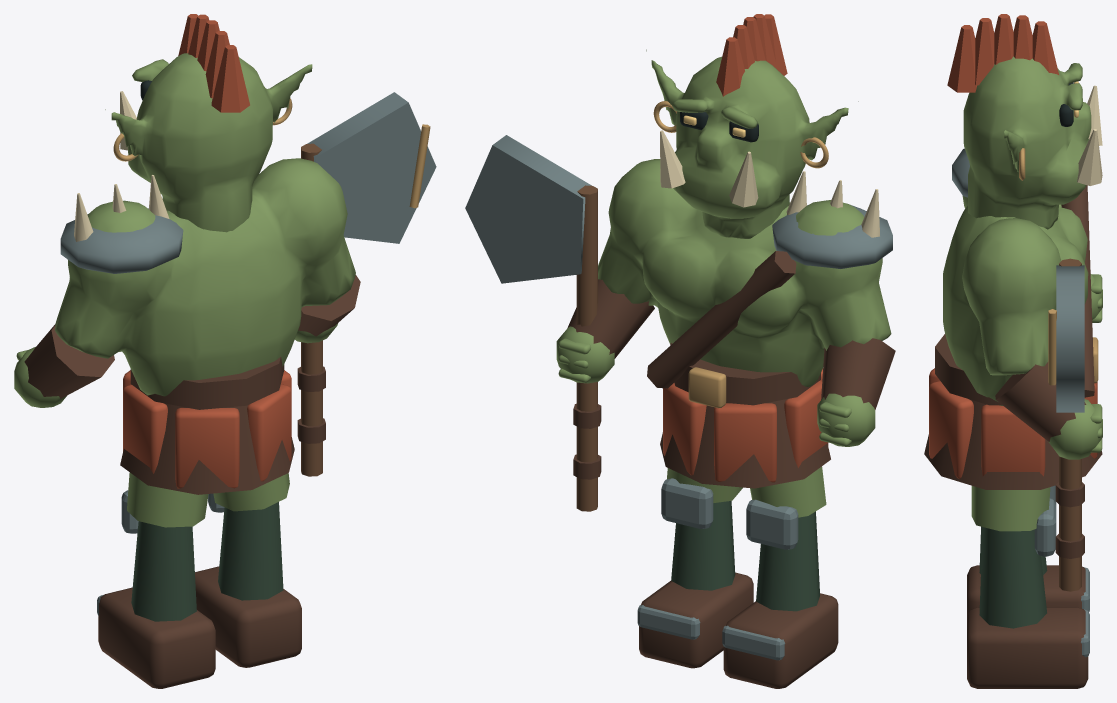
Rendered from host_03.glb.
The picture shows the model from 3 angles, left to right: view 1: azimuth 30°, elevation 25°; view 2: azimuth 150°, elevation 25°; view 3: azimuth 270°, elevation 25°; orthographic projection. The views are drawn at different scales.
Parts seen in each view (by area): view 1: mesh_Skin.003, mesh_Iron.003, mesh_Leather.003, mesh_Cloth.002, mesh_Leather.002, mesh_Leather.001, mesh_Shadow.002, mesh_Shadow.001, mesh_Skin.002, mesh_Wood.002, mesh_Bone.002, mesh_Skin.001 (+1 smaller); view 2: mesh_Skin.003, mesh_Leather.003, mesh_Iron.003, mesh_Cloth.002, mesh_Leather.002, mesh_Leather.001, mesh_Wood.002, mesh_Shadow.002, mesh_Shadow.001, mesh_Iron.002, mesh_Iron.001, mesh_Bone.002 (+4 smaller); view 3: mesh_Skin.003, mesh_Cloth.002, mesh_Leather.003, mesh_Leather.001, mesh_Shadow.001, mesh_Iron.003, mesh_Skin.001, mesh_Wood.002, mesh_Leather.002, mesh_Bone.002, mesh_Iron.001, mesh_Copper.002 (+2 smaller).
Part boxes in pixels (left/top/right/bottom): mesh_Skin.003: left=14, top=53, right=355, bottom=407; mesh_Iron.003: left=60, top=92, right=436, bottom=273; mesh_Leather.003: left=24, top=275, right=360, bottom=494; mesh_Cloth.002: left=123, top=14, right=291, bottom=488; mesh_Leather.002: left=98, top=587, right=215, bottom=688; mesh_Leather.001: left=195, top=566, right=301, bottom=667; mesh_Shadow.002: left=131, top=521, right=196, bottom=621; mesh_Shadow.001: left=218, top=502, right=283, bottom=600; mesh_Skin.002: left=127, top=472, right=208, bottom=527; mesh_Wood.002: left=301, top=143, right=322, bottom=476; mesh_Bone.002: left=74, top=91, right=169, bottom=241; mesh_Skin.001: left=213, top=473, right=289, bottom=511; mesh_Skin.003: left=556, top=49, right=891, bottom=446; mesh_Leather.003: left=567, top=251, right=895, bottom=488; mesh_Iron.003: left=465, top=135, right=892, bottom=283; mesh_Cloth.002: left=663, top=14, right=828, bottom=482; mesh_Leather.002: left=723, top=593, right=838, bottom=688; mesh_Leather.001: left=639, top=572, right=753, bottom=668; mesh_Wood.002: left=576, top=185, right=597, bottom=511; mesh_Shadow.002: left=756, top=511, right=819, bottom=611; mesh_Shadow.001: left=671, top=501, right=735, bottom=590; mesh_Iron.002: left=722, top=499, right=798, bottom=660; mesh_Iron.001: left=637, top=478, right=713, bottom=639; mesh_Bone.002: left=660, top=130, right=879, bottom=237; mesh_Skin.003: left=943, top=56, right=1102, bottom=459; mesh_Cloth.002: left=929, top=14, right=1097, bottom=479; mesh_Leather.003: left=924, top=185, right=1102, bottom=558; mesh_Leather.001: left=967, top=607, right=1088, bottom=688; mesh_Shadow.001: left=979, top=527, right=1046, bottom=628; mesh_Iron.003: left=952, top=148, right=1084, bottom=412; mesh_Skin.001: left=971, top=486, right=1050, bottom=531; mesh_Wood.002: left=1059, top=258, right=1081, bottom=591; mesh_Leather.002: left=967, top=565, right=1085, bottom=616; mesh_Bone.002: left=1077, top=85, right=1102, bottom=185; mesh_Iron.001: left=1034, top=498, right=1089, bottom=657; mesh_Copper.002: left=1019, top=148, right=1098, bottom=385.
Size of the model in its own units: 1.32 by 1.98 by 0.501.
